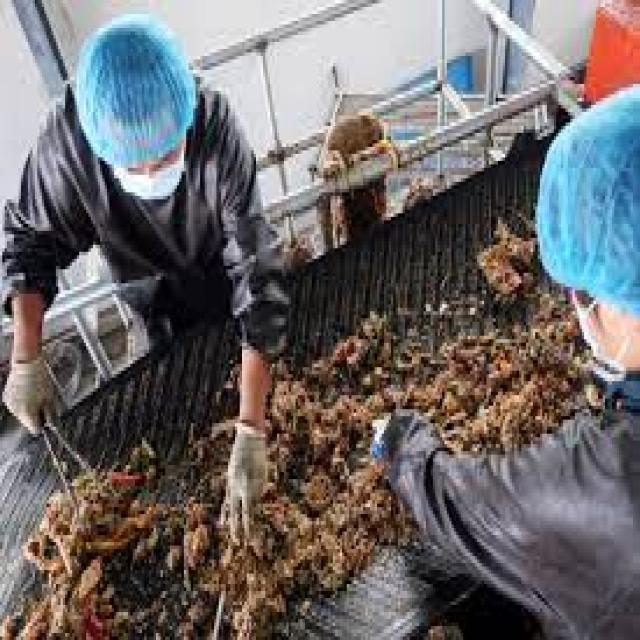Organik: (66, 508, 211, 628)
